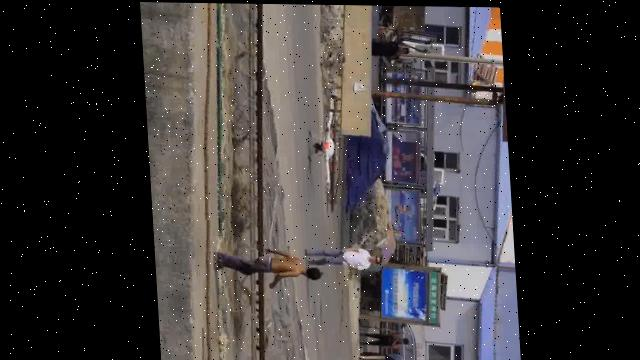drone: (272, 84, 379, 201)
